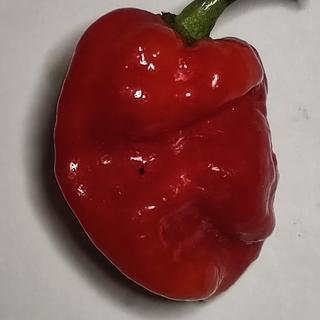Fly-bites: (132, 162, 154, 183)
